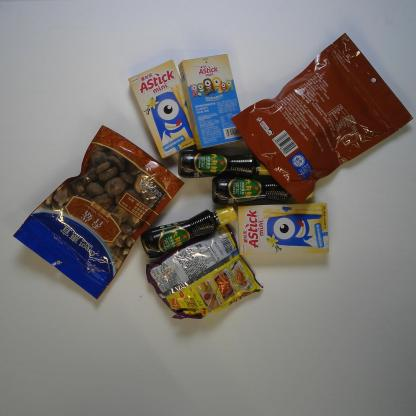Dessert: (127, 58, 197, 160), (178, 53, 246, 153), (237, 202, 330, 258)
Dried Food: (230, 31, 415, 205), (12, 122, 186, 302)
Instant Noodles: (144, 224, 264, 321)
Seasoner: (138, 205, 238, 260), (210, 174, 314, 208), (176, 148, 272, 179)
